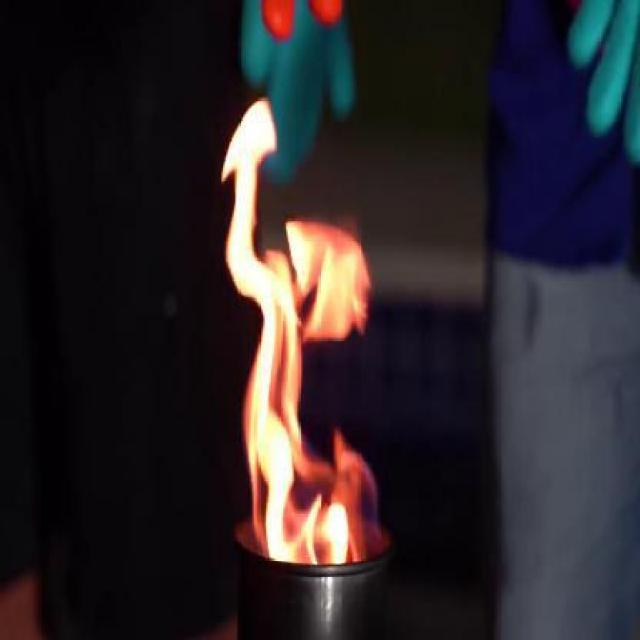Fire: (216, 220, 382, 583), (223, 101, 269, 221)
